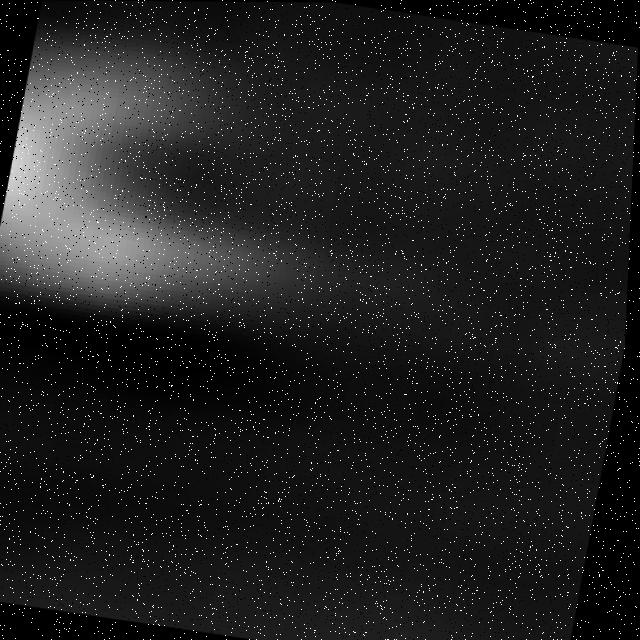person: (1, 3, 336, 345)
